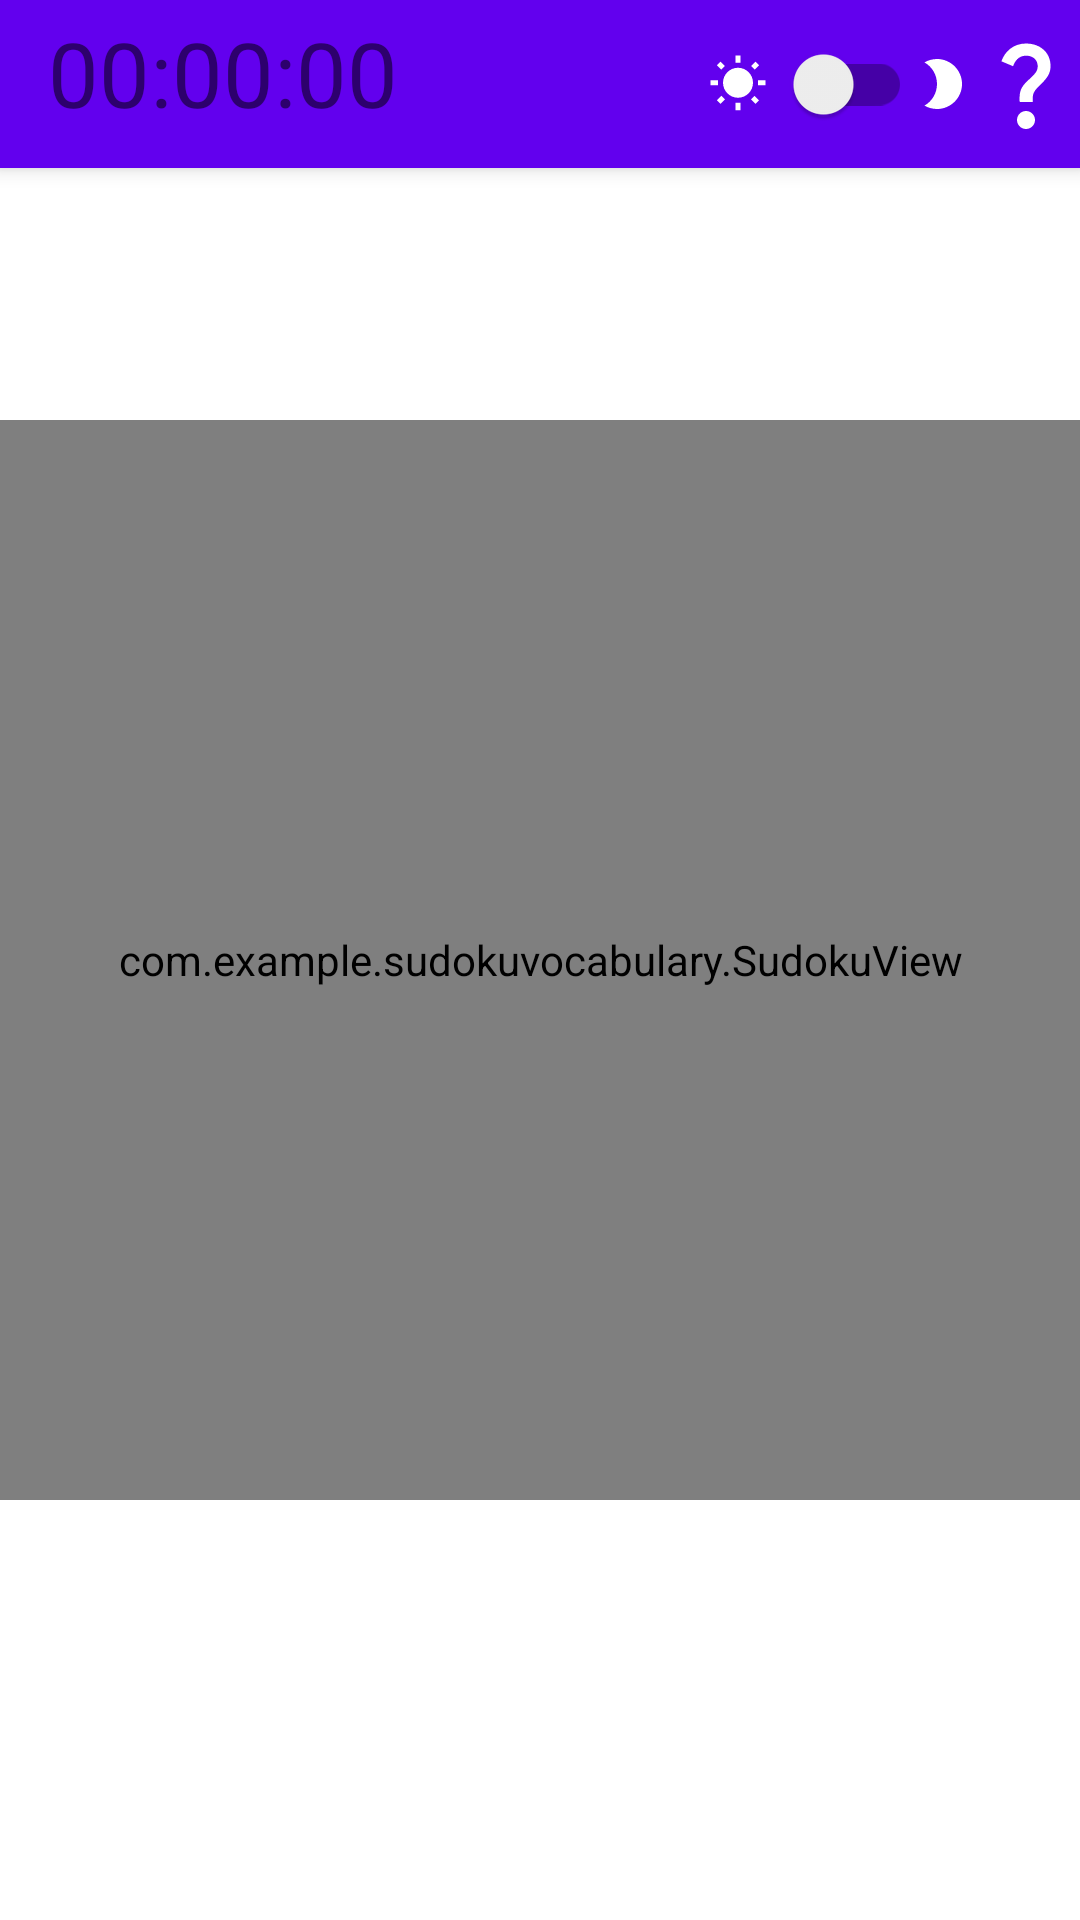

Where icons sit on this 1080×1920 app screen, as (x1, y1, x2, y2):
question mark: (1001, 43, 1051, 129)
sunny: (710, 55, 766, 111)
